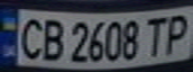0: (103, 18, 127, 63)
2: (66, 17, 90, 64)
6: (87, 17, 109, 63)
8: (121, 16, 145, 61)
B: (36, 15, 66, 62)
C: (12, 14, 48, 61)
P: (160, 10, 193, 55)
T: (139, 14, 172, 57)
